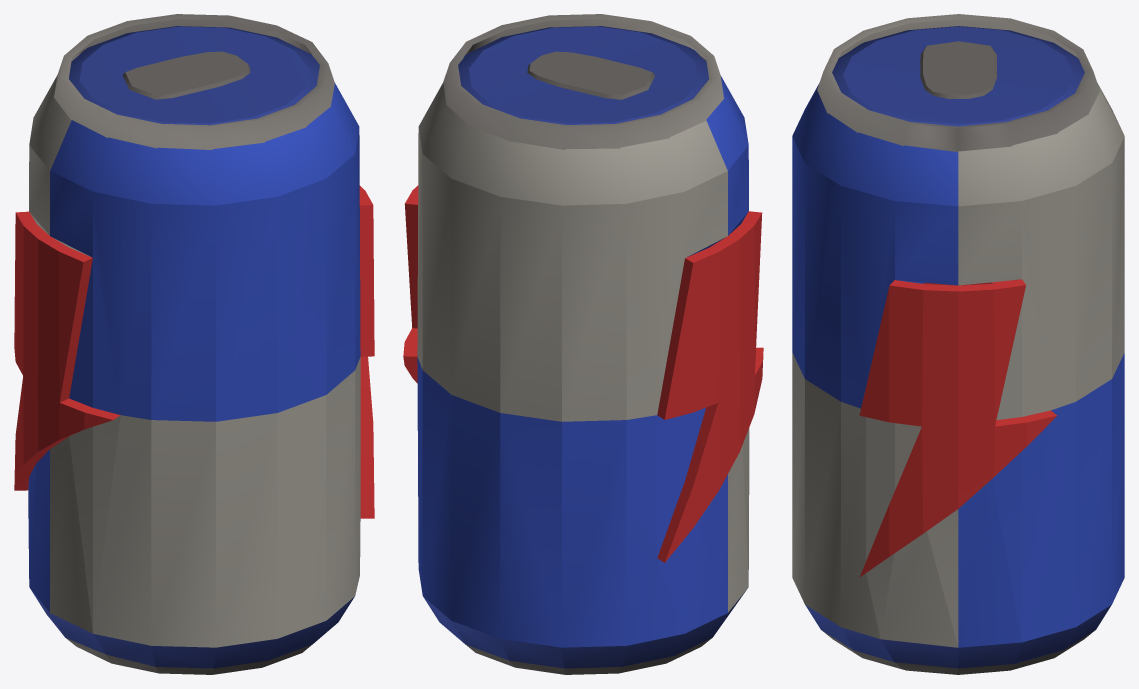
The model's file is EnergyDrink_2.fbx.
3 renders of one model, left to right at view 1: azimuth 30°, elevation 25°; view 2: azimuth 150°, elevation 25°; view 3: azimuth 270°, elevation 25°, orthographic.
Visible parts, largest first — view 1: EnergyDrink_2; view 2: EnergyDrink_2; view 3: EnergyDrink_2.
Boxes of the visible parts, <box> form: EnergyDrink_2: <box>14,14,374,674</box>; EnergyDrink_2: <box>403,14,763,674</box>; EnergyDrink_2: <box>792,14,1124,674</box>.
Size of the model in its own units: 9.29 by 15.54 by 8.57.
1 material, 1 textured.
